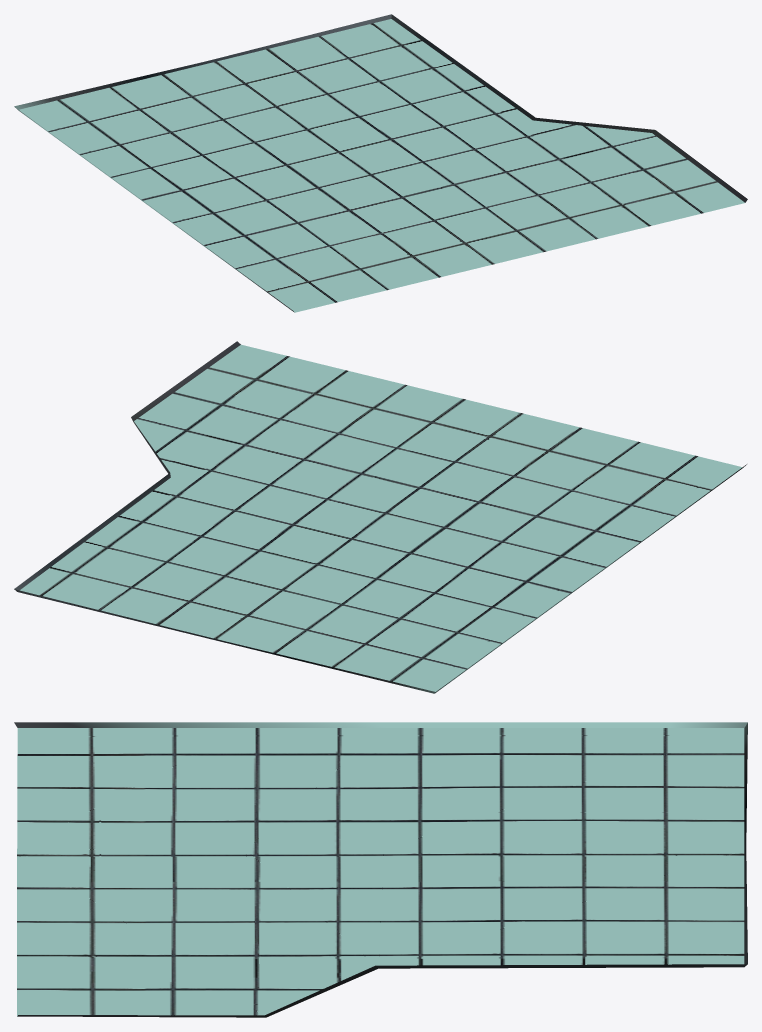
Rendered from SM_Baggage_Floor_01.fbx.
3 views of the same model, one above another, from view 1: azimuth 30°, elevation 25°; view 2: azimuth 150°, elevation 25°; view 3: azimuth 270°, elevation 25° (orthographic). The views are drawn at different scales.
Visible parts, largest first — view 1: SM_Baggage_Floor_01; view 2: SM_Baggage_Floor_01; view 3: SM_Baggage_Floor_01.
Boxes of the visible parts, x1=… form: SM_Baggage_Floor_01: x1=14, y1=14, x2=747, y2=312; SM_Baggage_Floor_01: x1=14, y1=341, x2=746, y2=693; SM_Baggage_Floor_01: x1=14, y1=722, x2=747, y2=1017.
Bounding box in the file's own units: 57.79 × 0.3903 × 61.24.
